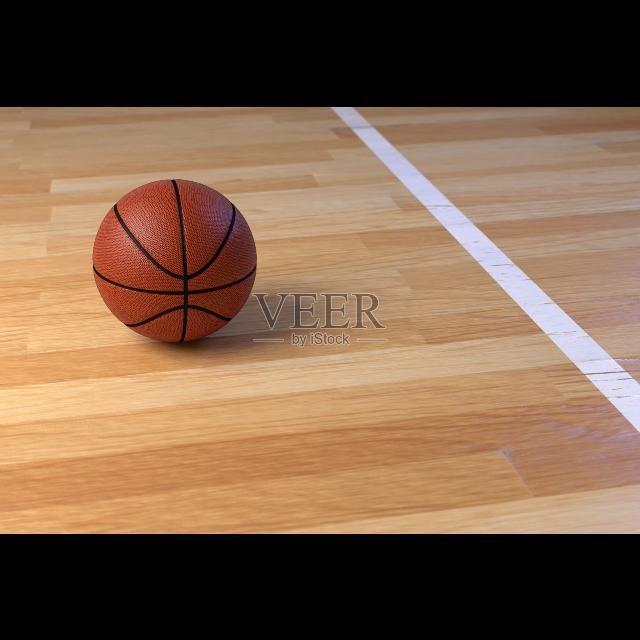basketball: (94, 178, 256, 342)
